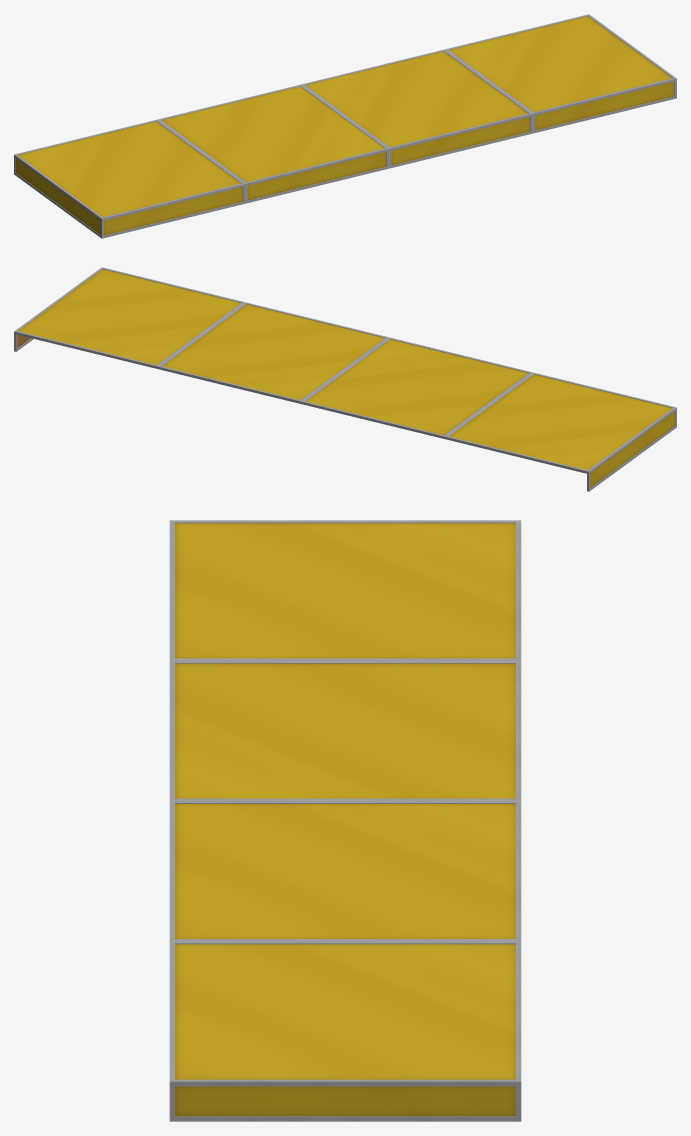
File: jsf_2P_s04_c03_t01_DX.fbx
3 views of the same model, one above another, from view 1: azimuth 30°, elevation 25°; view 2: azimuth 150°, elevation 25°; view 3: azimuth 270°, elevation 25° (orthographic). The views are drawn at different scales.
Visible parts, largest first — view 1: jsf_2P_s04_c03_t01_DX; view 2: jsf_2P_s04_c03_t01_DX; view 3: jsf_2P_s04_c03_t01_DX.
Part boxes in pixels (x1,y1,x2,y2): jsf_2P_s04_c03_t01_DX: [14, 14, 676, 238]; jsf_2P_s04_c03_t01_DX: [14, 267, 676, 491]; jsf_2P_s04_c03_t01_DX: [169, 520, 521, 1121].
Size of the model in its own units: 378 by 12.51 by 100.
